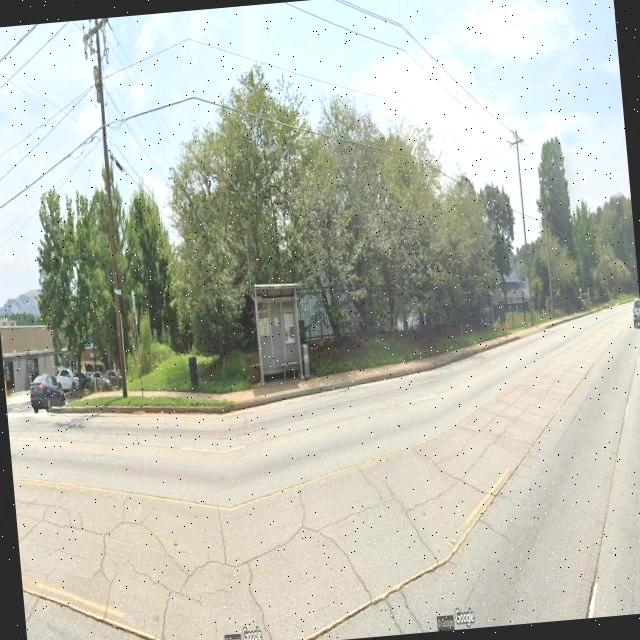seating: (279, 360, 299, 380)
shelter: (252, 280, 306, 388)
trash_can: (187, 356, 199, 390), (302, 344, 310, 380)
